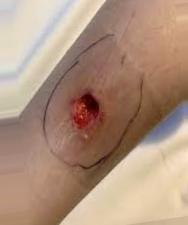Spider: (40, 59, 137, 170)
